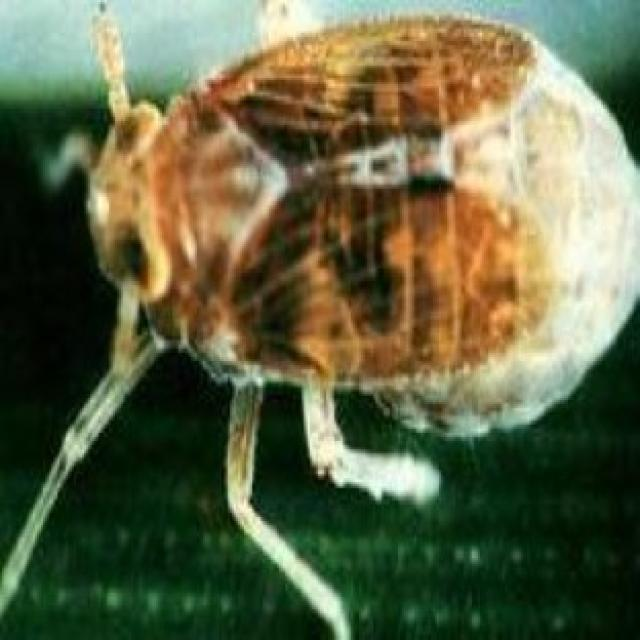brown plant hopper: (86, 0, 638, 638)
